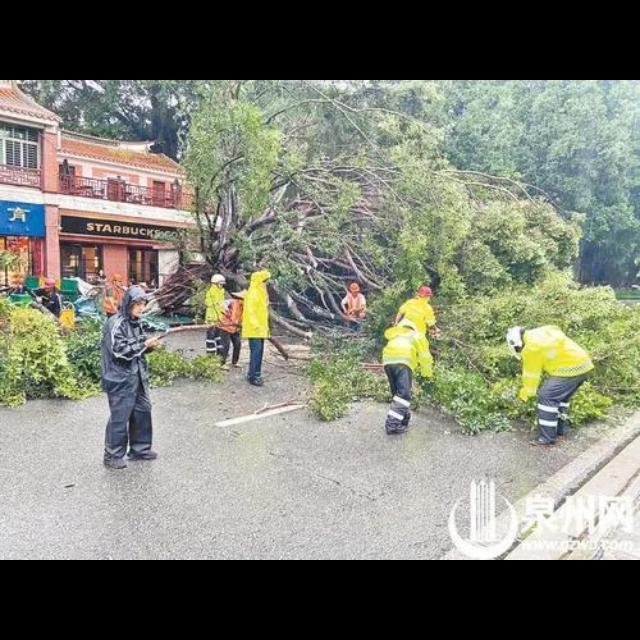fallen_tree: (165, 81, 639, 422)
